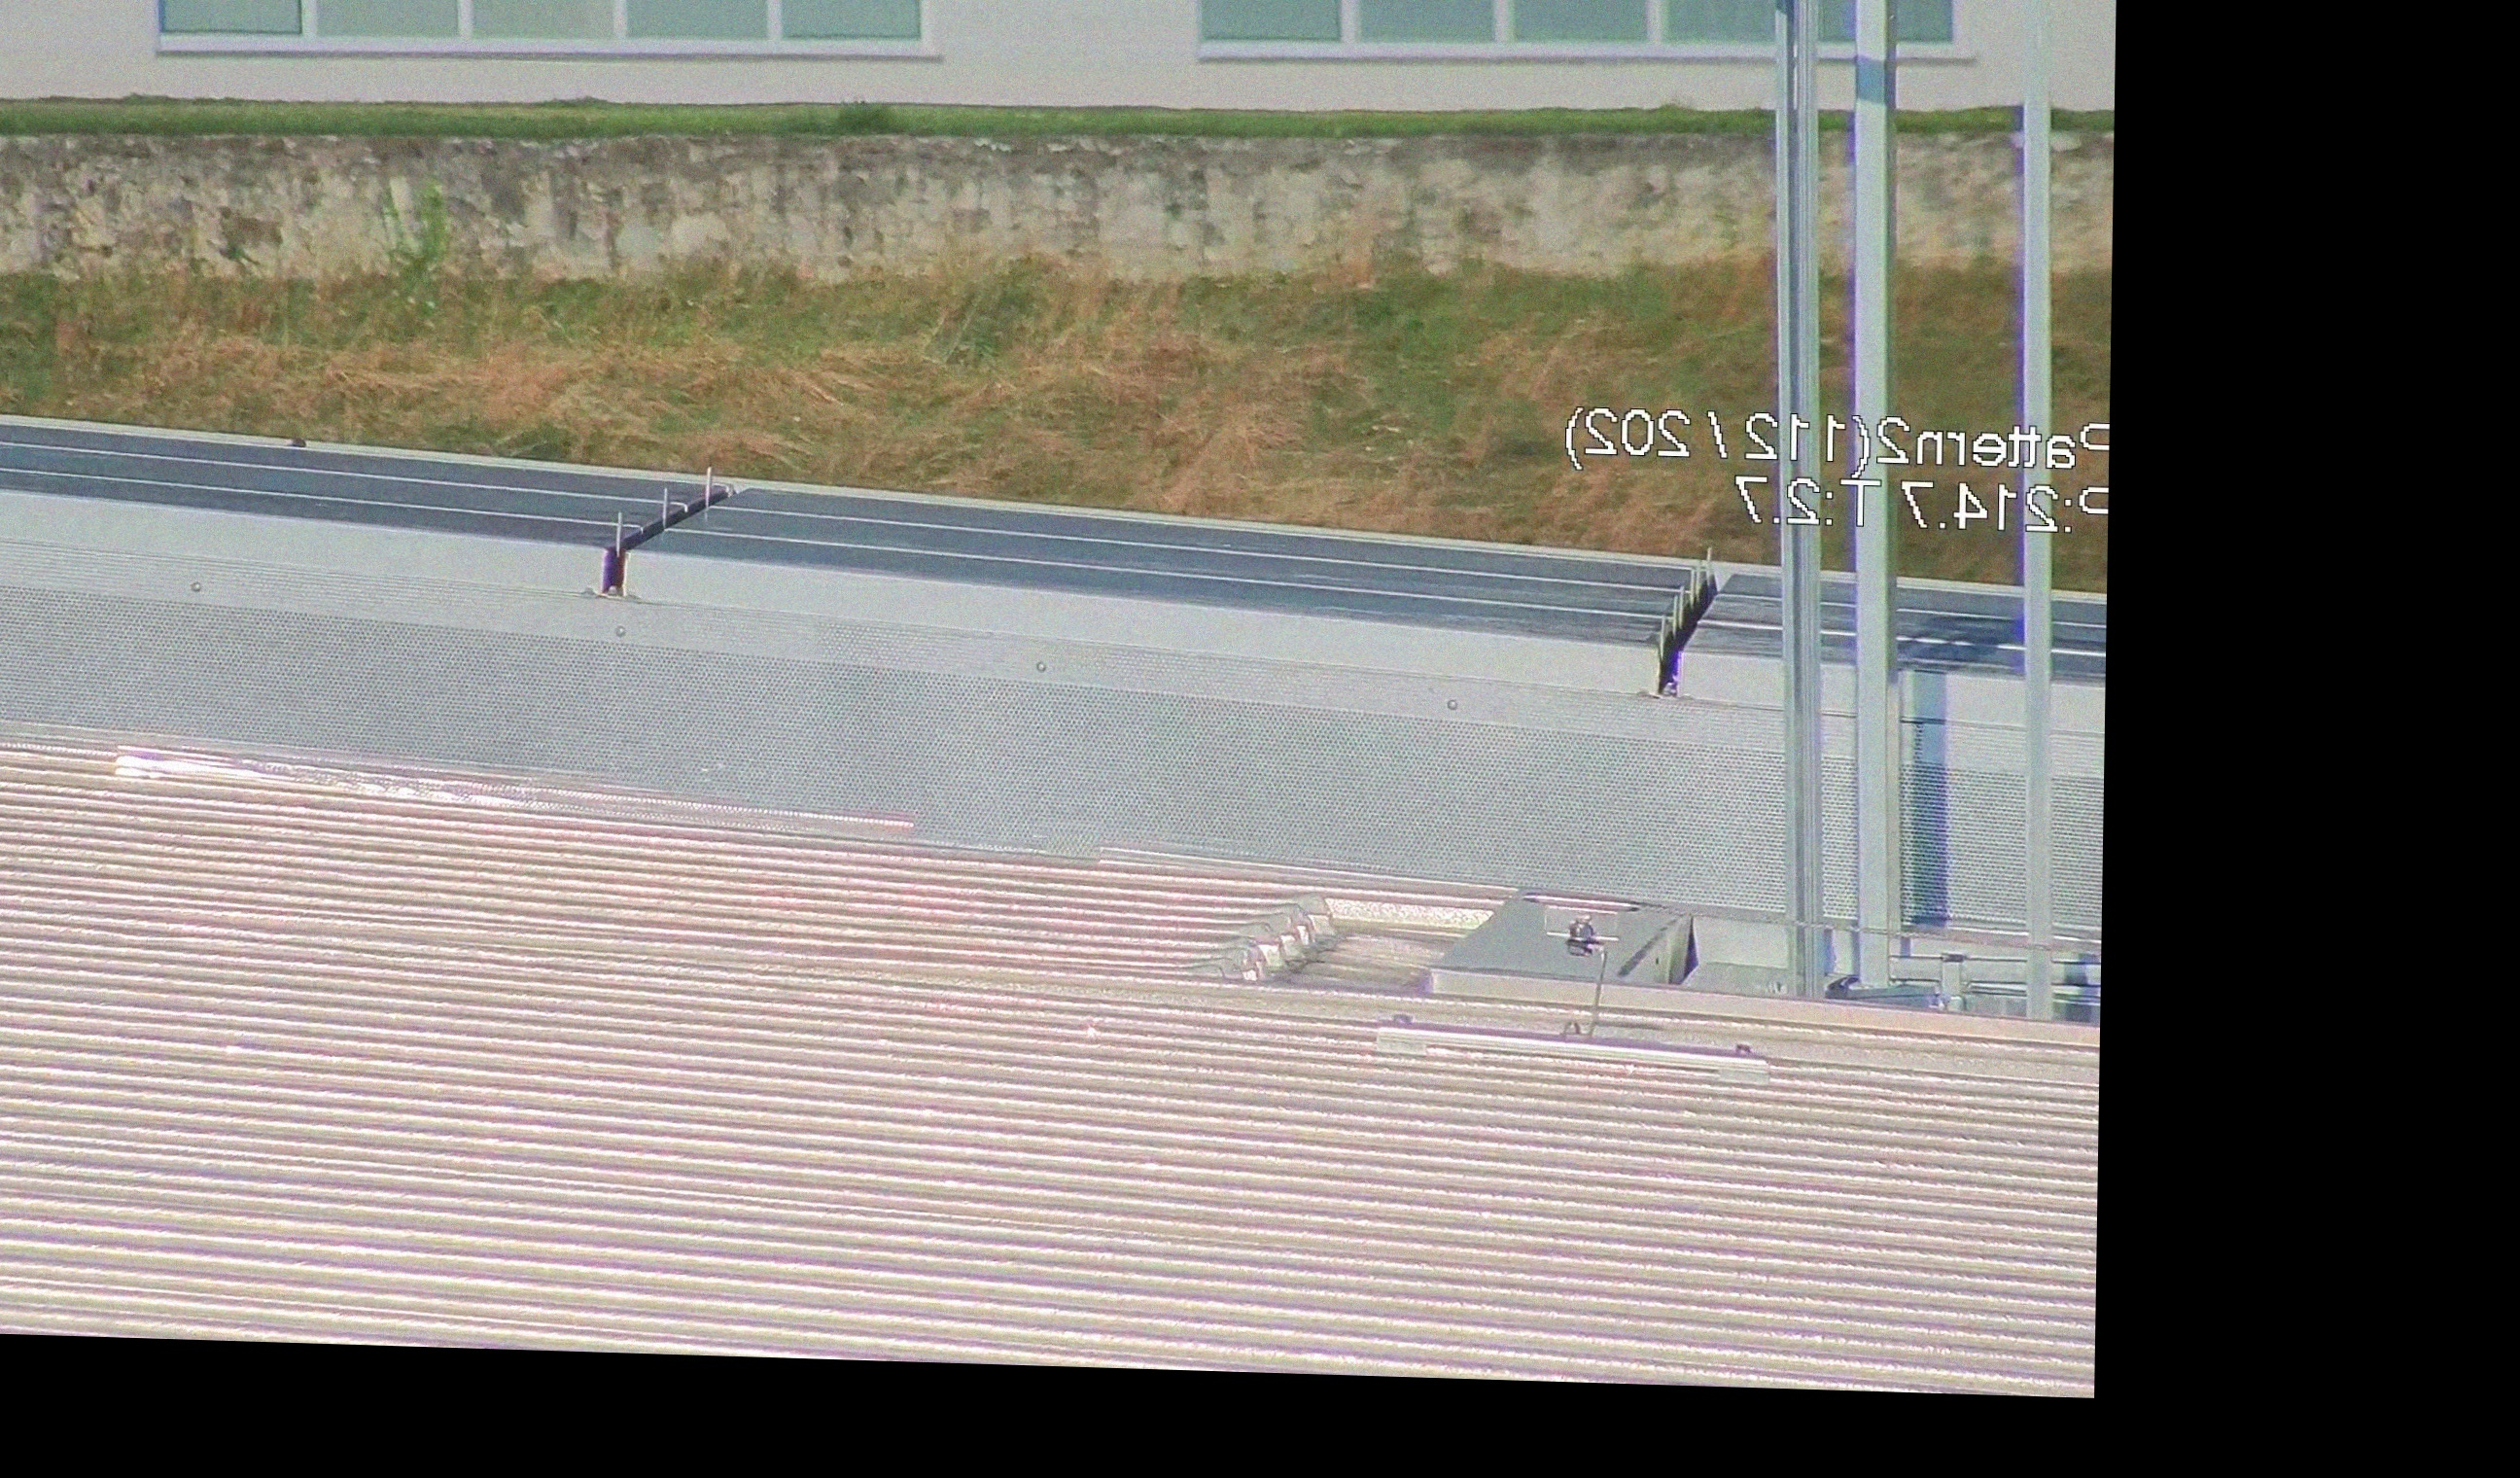Other: (1657, 544, 1753, 707)
